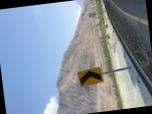right_turn: (14, 98, 36, 114)
